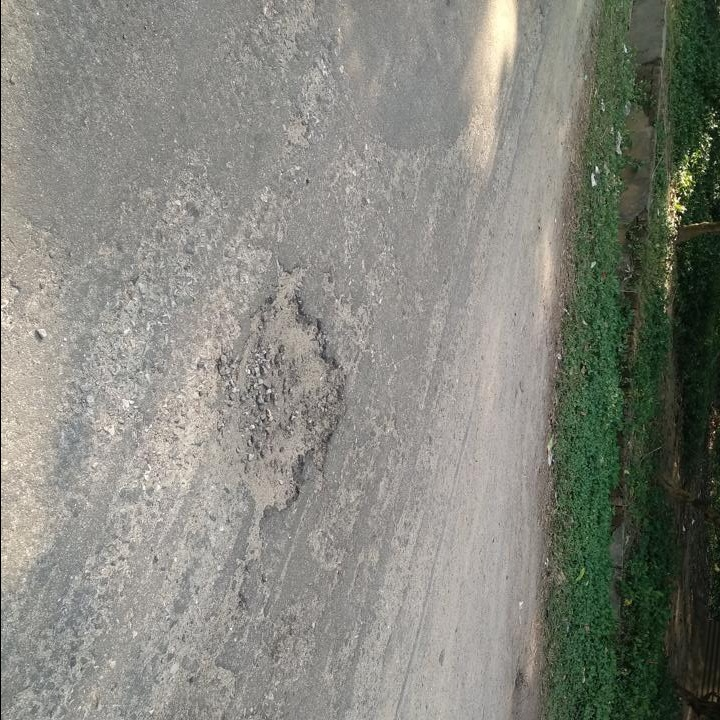pothole: (218, 257, 352, 532)
